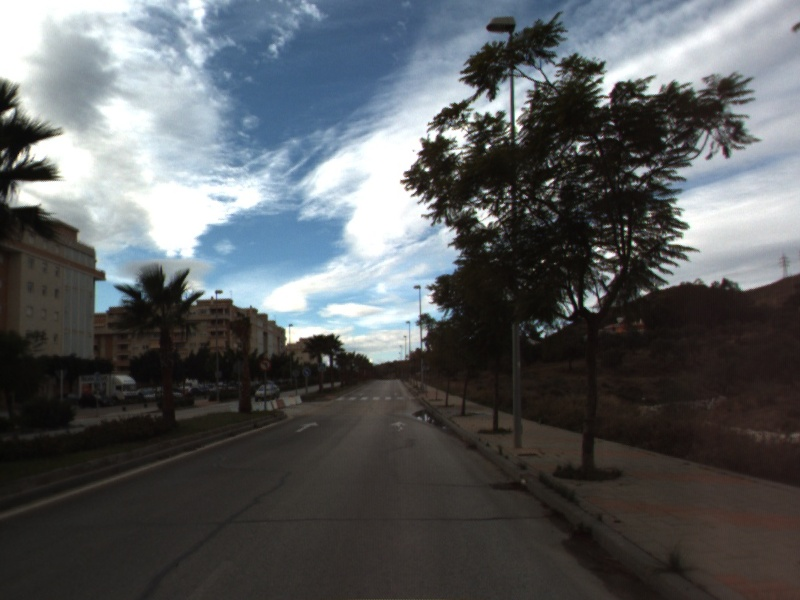STRAIGHT: (294, 420, 321, 434), (389, 419, 409, 433)
